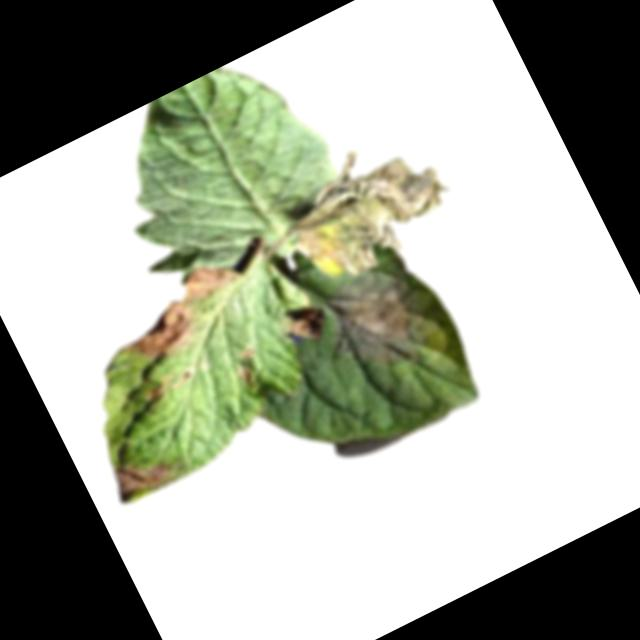Late_blight: (261, 116, 464, 296), (103, 250, 259, 375), (317, 257, 443, 391), (103, 433, 192, 508), (274, 293, 333, 351), (136, 359, 200, 407), (227, 340, 273, 392)
